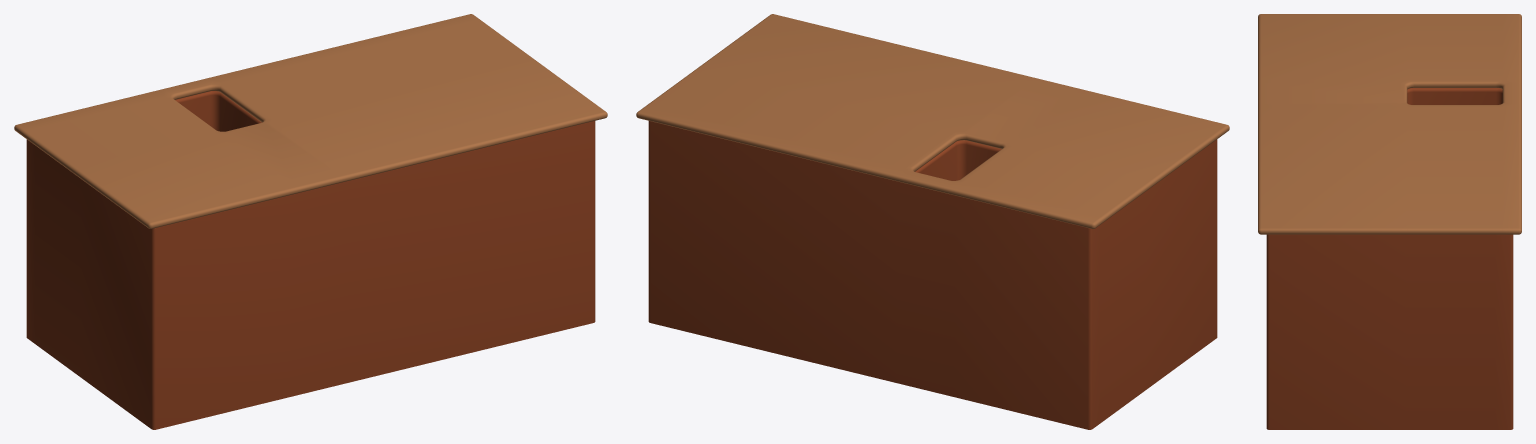
File: scène 2.fbx
3 views of the same model, side by side, from view 1: azimuth 30°, elevation 25°; view 2: azimuth 150°, elevation 25°; view 3: azimuth 270°, elevation 25° (orthographic). The views are drawn at different scales.
Parts seen in each view (by area): view 1: Scène 2; view 2: Scène 2; view 3: Scène 2.
Part boxes in pixels (x1,y1,x2,y2): Scène 2: [14, 14, 607, 429]; Scène 2: [636, 14, 1229, 429]; Scène 2: [1258, 14, 1521, 429].
Bounding box in the file's own units: 3445 × 1515 × 1773.
